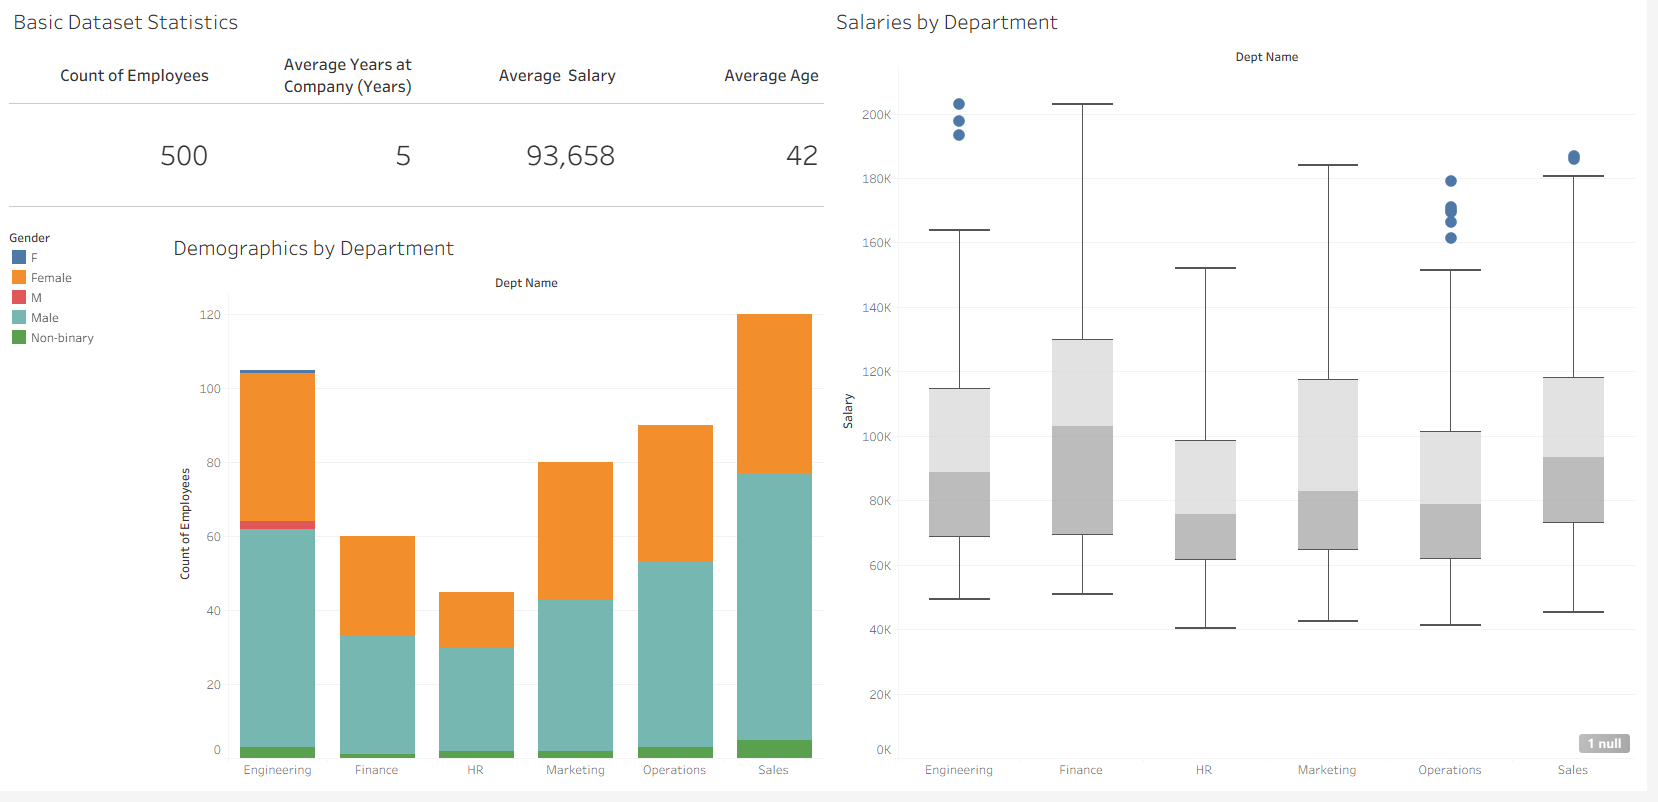

Layout of this report page (visuals, bound fields, positions):
{"tool":"tableau","page":{"name":"Dashboard 1","canvas":[1000,1000],"units":"permille","ordinal":0},"visuals":[{"type":"worksheet","title":"Sheet 1","mark":"Text","box":[4.9,10,498.6,265]},{"type":"worksheet","title":"Sheet 4","mark":"Circle","rows":["Salary"],"cols":["DeptName"],"box":[503.4,10,491.7,980]},{"type":"legend","title":"Sheet 2","param":"[federated.0e06pvo1npdp051fztb5n02wrvi7].[none:Gender:nk]","box":[4.9,292.5,97,157.5]},{"type":"worksheet","title":"Sheet 2","mark":"Automatic","rows":["Employees_BD3119EBDFC04EA299E3A2A85908457C"],"cols":["DeptName"],"box":[101.8,292.5,401.6,697.5]}]}

Visuals, with their boxes on the dashboard's canvas, which has no fixed pixel size, in thousandths of its width and height (x1, y1, x2, y2). These are canvas units, not pixel positions in the 1658x802 screenshot, which may show the page scaled, cropped or inside an application window:
"Sheet 1" worksheet (Text marks): {"left": 5, "top": 10, "right": 504, "bottom": 275}
"Sheet 4" worksheet (Circle marks): {"left": 503, "top": 10, "right": 995, "bottom": 990}
"Sheet 2" legend: {"left": 5, "top": 292, "right": 102, "bottom": 450}
"Sheet 2" worksheet: {"left": 102, "top": 292, "right": 503, "bottom": 990}
